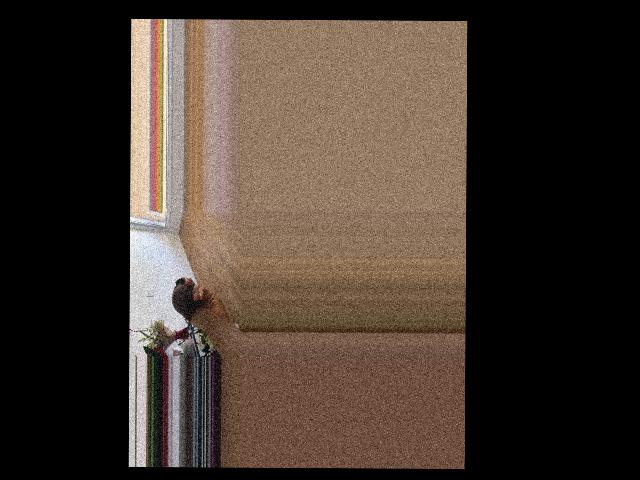beet: (171, 277, 195, 344)
